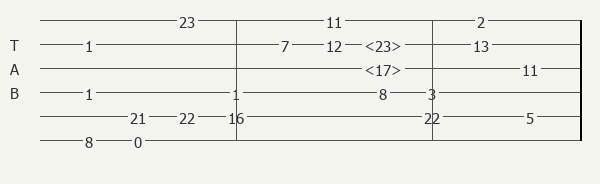0: (134, 133, 146, 148)
1: (85, 37, 97, 52), (85, 85, 97, 100), (232, 85, 244, 100)
11: (326, 13, 346, 28), (522, 61, 542, 76)
12: (326, 37, 346, 52)
13: (473, 37, 493, 52)
16: (228, 109, 248, 124)
2: (477, 13, 489, 28)
21: (130, 109, 150, 124)
22: (179, 109, 199, 124), (424, 109, 444, 124)
23: (179, 13, 199, 28)
3: (428, 85, 440, 100)
5: (526, 109, 538, 124)
7: (281, 37, 293, 52)
8: (85, 133, 97, 148), (379, 85, 391, 100)
harmonic: (364, 37, 406, 52), (364, 61, 406, 76)
